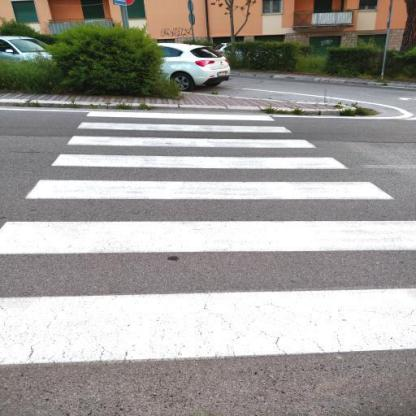crosswalk: (0, 217, 416, 380), (19, 150, 399, 205)
